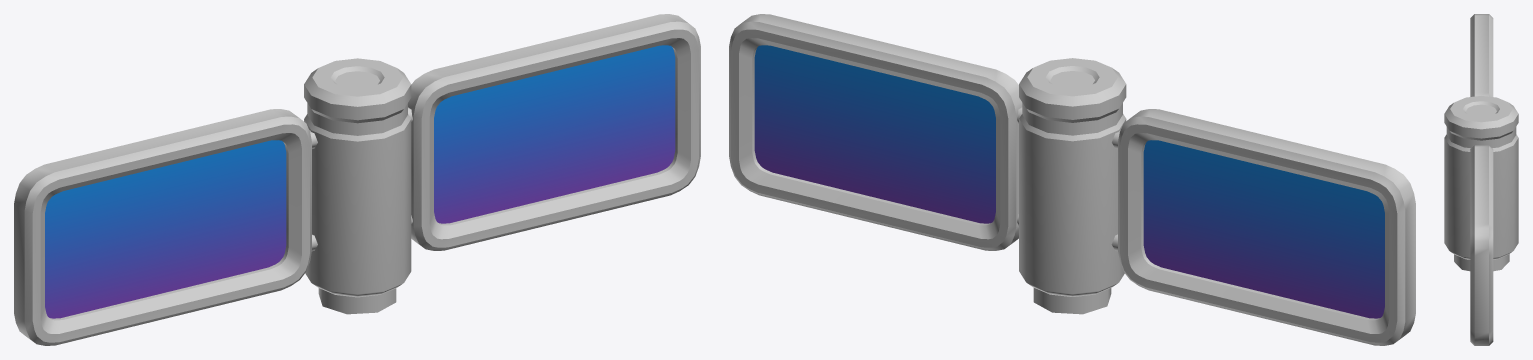
File: obstacle_20_001.fbx
The picture shows the model from 3 angles, left to right: view 1: azimuth 30°, elevation 25°; view 2: azimuth 150°, elevation 25°; view 3: azimuth 270°, elevation 25°; orthographic projection. The views are drawn at different scales.
Visible parts, largest first — view 1: obstacle_20_001; view 2: obstacle_20_001; view 3: obstacle_20_001.
Boxes of the visible parts, left/top/right/bottom form: obstacle_20_001: left=14, top=14, right=700, bottom=345; obstacle_20_001: left=729, top=14, right=1415, bottom=345; obstacle_20_001: left=1444, top=14, right=1518, bottom=345.
Bounding box in the file's own units: 549 × 75.32 × 171.
